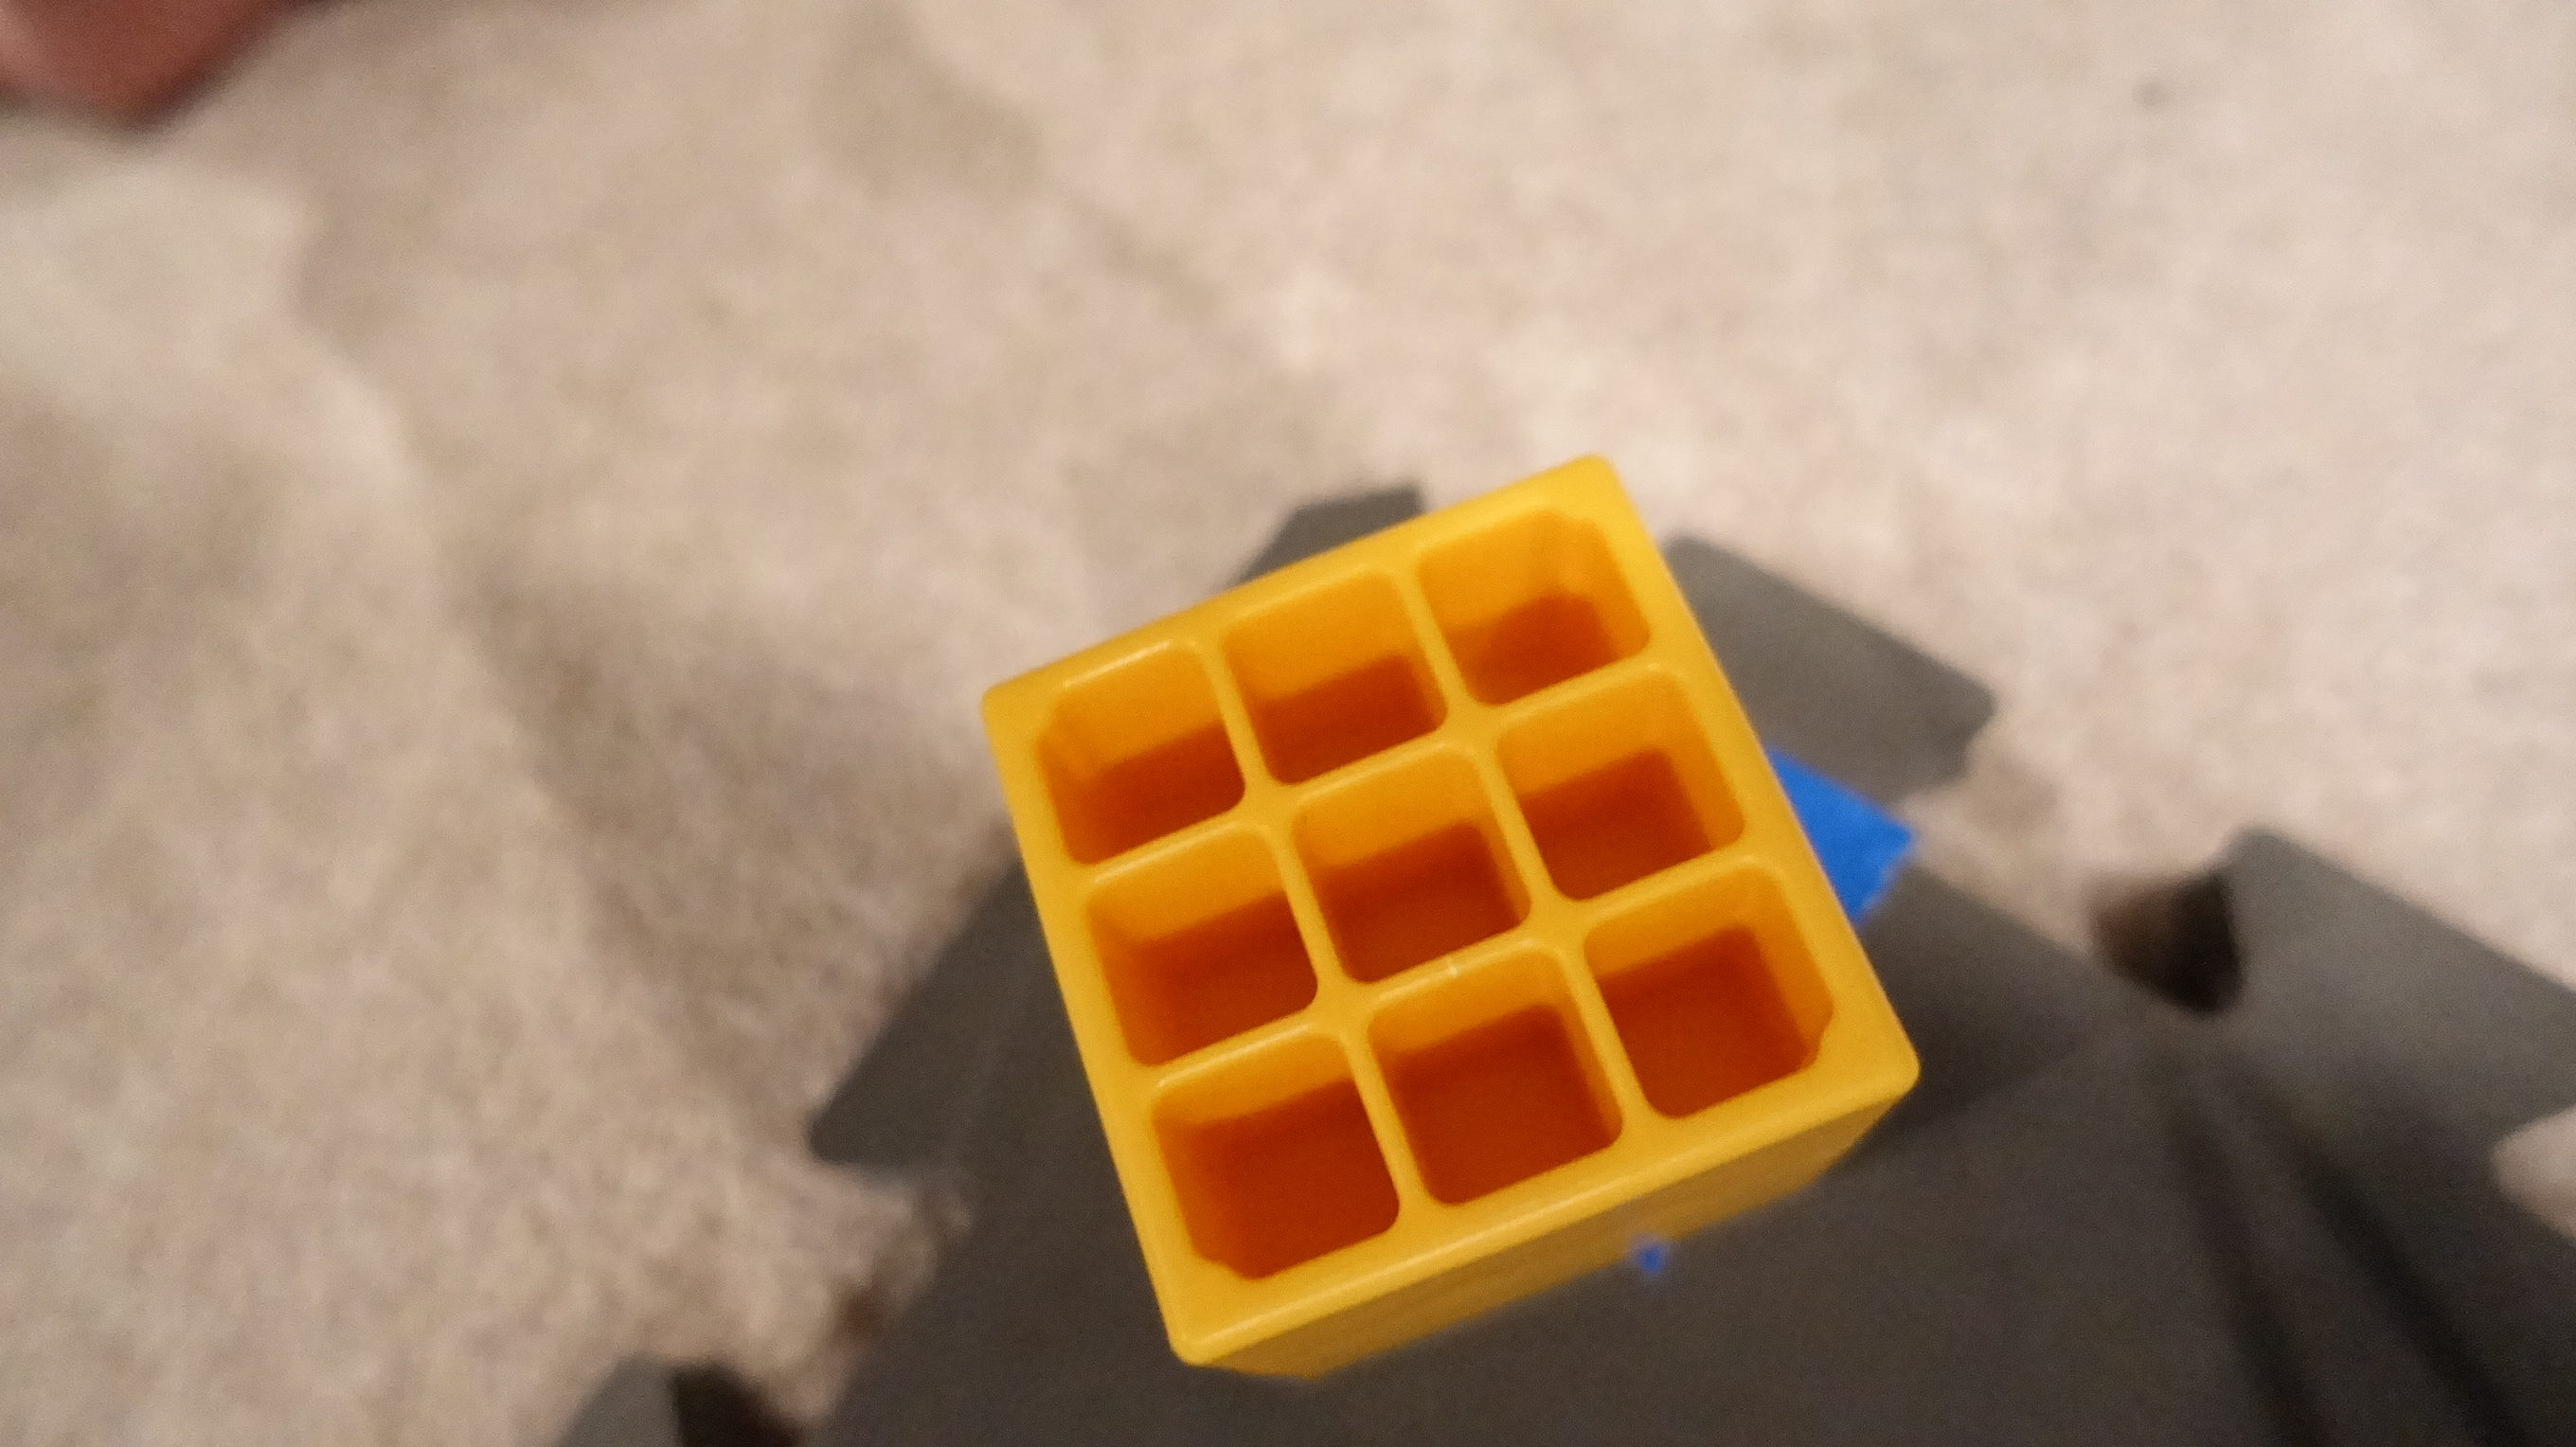gold: (954, 446, 1939, 1401)
